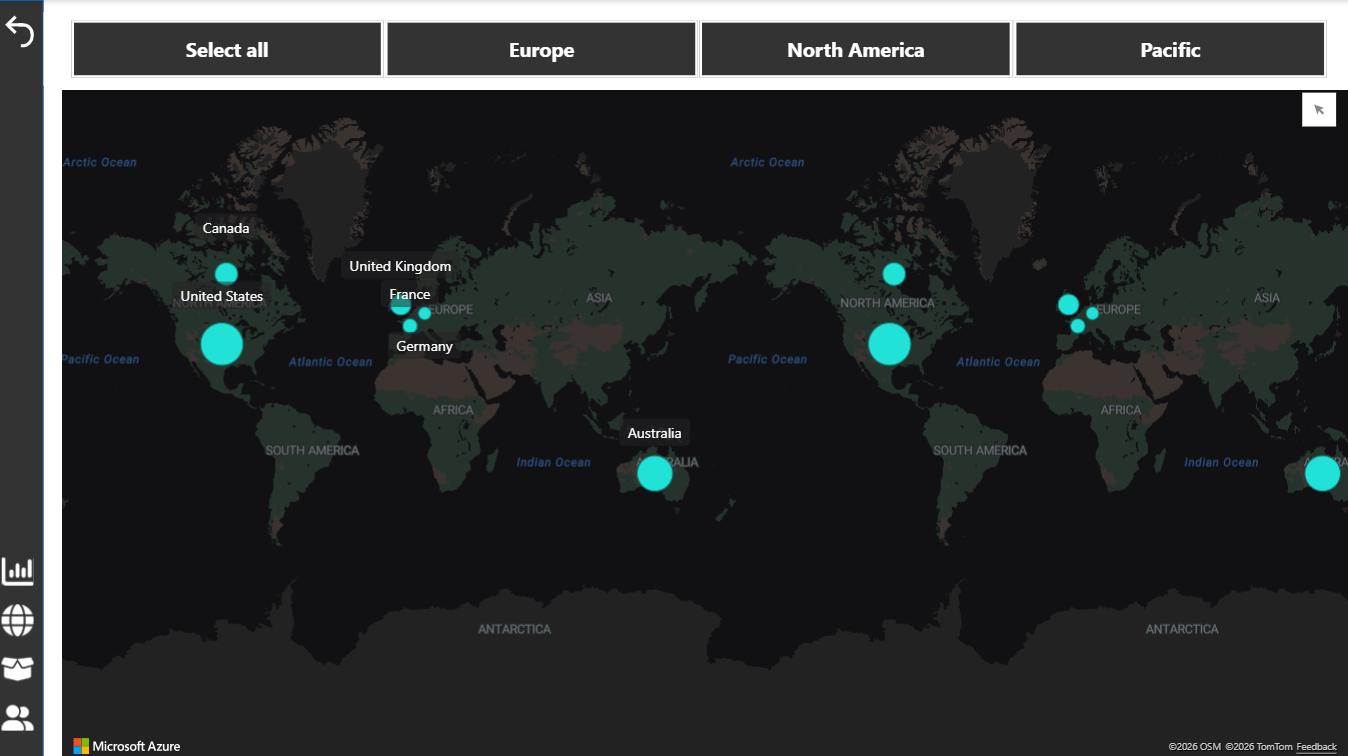

Layout of this report page (visuals, bound fields, positions):
{"tool":"powerbi","page":{"name":"Map","canvas":[1280,720],"ordinal":1},"visuals":[{"type":"shape","box":[0,0,45,720],"z":0},{"type":"actionButton","box":[1.2,520.4,45.3,38.3],"z":1000,"group":"g1"},{"type":"map","fields":{"Category":["Territory Lookup.Country"],"Size":["Measure Table.Total Orders"]},"box":[57.5,80,1222.5,640],"z":1000},{"type":"slicer","fields":{"Values":["Territory Lookup.Continent"]},"box":[45,11.2,1235,68.8],"z":2000},{"type":"actionButton","box":[1.2,566.9,45.3,38.3],"z":2000,"group":"g1"},{"type":"actionButton","box":[1.2,612.2,45.3,38.3],"z":3000,"group":"g1"},{"type":"group","id":"g1","title":"Navigation Buttons","box":[1.2,520.4,45.3,176.6],"z":3000},{"type":"actionButton","box":[2.8,9.7,44.5,40.3],"z":4000},{"type":"actionButton","box":[1.2,658.6,45.3,38.3],"z":4000,"group":"g1"}]}

Visuals, with their boxes on the page's 1280x720 design canvas (x1, y1, x2, y2). These are canvas units, not pixel positions in the 1348x756 screenshot, which may show the page scaled, cropped or inside an application window:
shape: l=0, t=0, r=45, b=720
actionButton: l=1, t=520, r=46, b=559
map - Territory Lookup.Country x Measure Table.Total Orders: l=58, t=80, r=1280, b=720
slicer - Territory Lookup.Continent: l=45, t=11, r=1280, b=80
actionButton: l=1, t=567, r=46, b=605
actionButton: l=1, t=612, r=46, b=650
"Navigation Buttons" group: l=1, t=520, r=46, b=697
actionButton: l=3, t=10, r=47, b=50
actionButton: l=1, t=659, r=46, b=697
